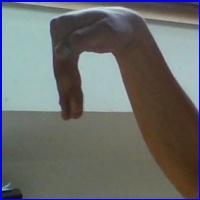del: (45, 9, 163, 131)
